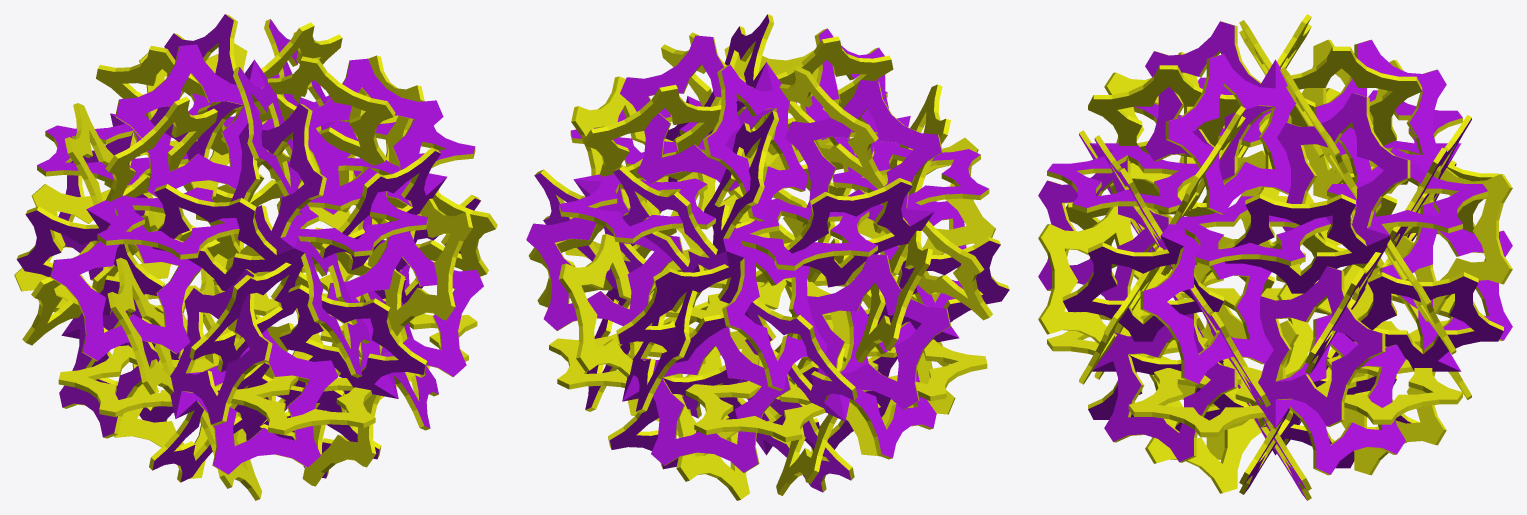
The model's file is StarDodecahedronPolyknot27.glb.
The picture shows the model from 3 angles, left to right: view 1: azimuth 30°, elevation 25°; view 2: azimuth 150°, elevation 25°; view 3: azimuth 270°, elevation 25°; orthographic projection.
Parts seen in each view (by area): view 1: ESCHER_3D_3Augmented_Penta_Prism; view 2: ESCHER_3D_3Augmented_Penta_Prism; view 3: ESCHER_3D_3Augmented_Penta_Prism.
Part boxes in pixels (x1,y1,x2,y2): ESCHER_3D_3Augmented_Penta_Prism: (14,14,497,500); ESCHER_3D_3Augmented_Penta_Prism: (526,14,1009,500); ESCHER_3D_3Augmented_Penta_Prism: (1038,14,1512,500).
Bounding box in the file's own units: 155 × 150 × 150.
